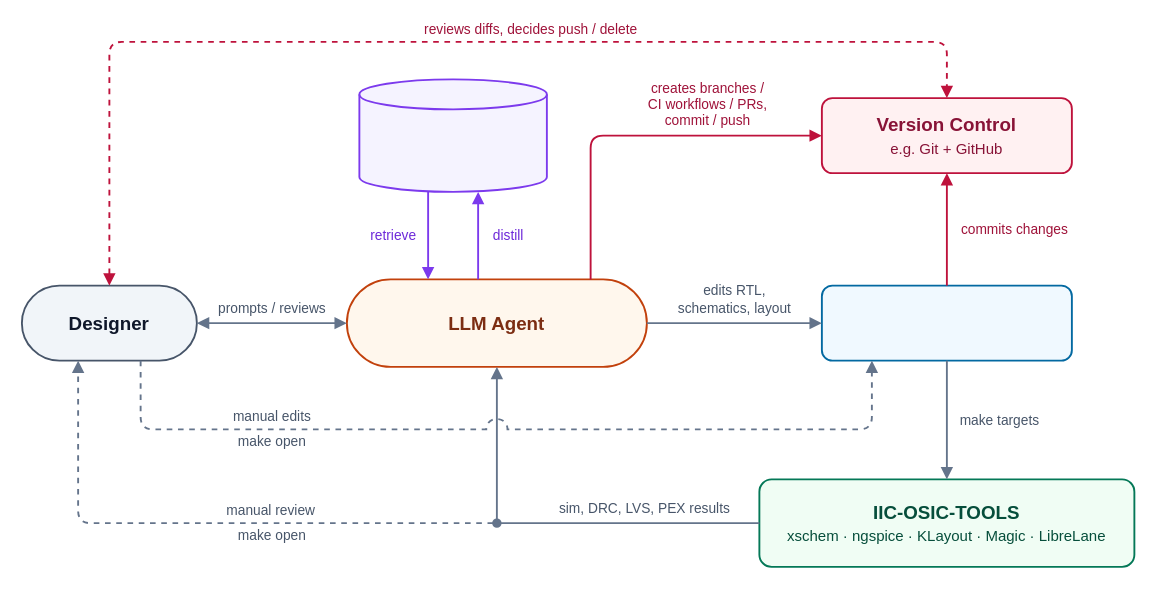
The diagram is 1158 pixels wide and 590 high, and some of its shapes have lost their labels. Each missing label, with the centre of its shape:
Chip Project Template SG13CMOS5L AMS: the point at 946,322
Knowledge Base index + notes: the point at 452,135
